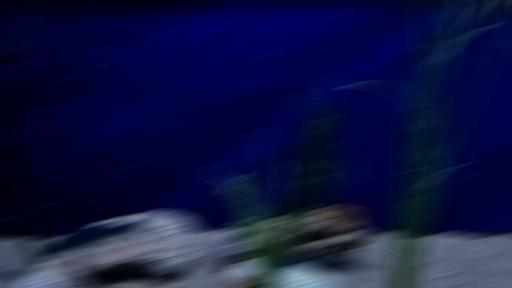Fish: (43, 217, 148, 253)
